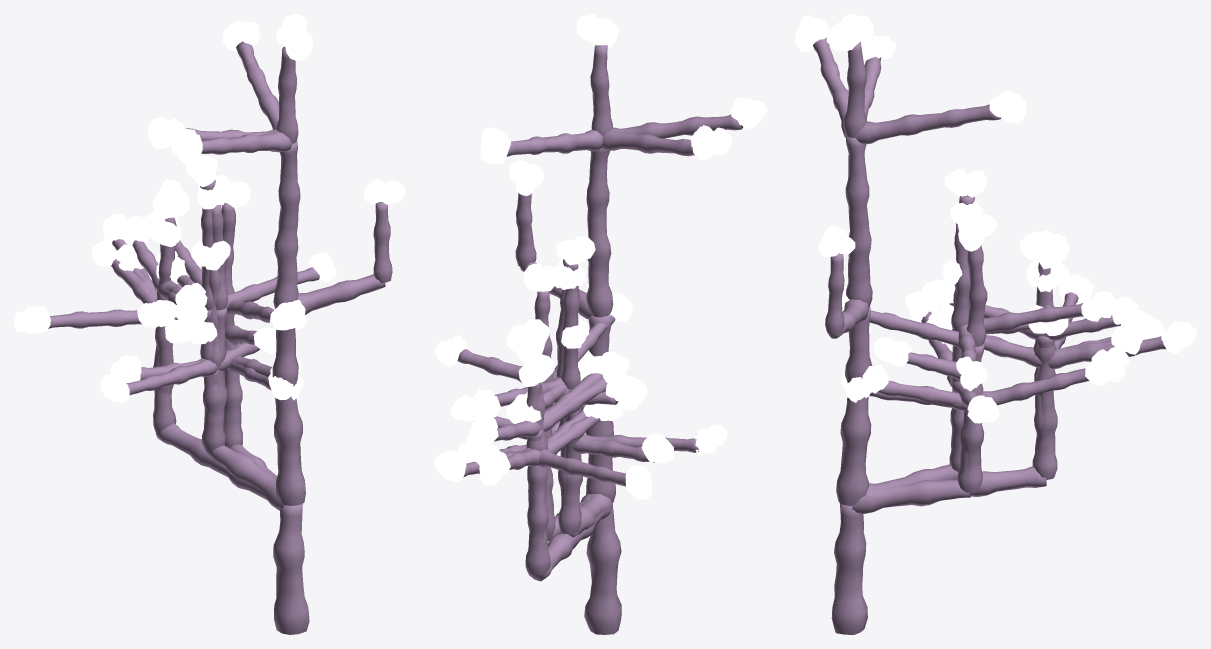
3 views of the same model, side by side, from view 1: azimuth 30°, elevation 25°; view 2: azimuth 150°, elevation 25°; view 3: azimuth 270°, elevation 25° (orthographic).
Visible parts, largest first — view 1: Chorus; view 2: Chorus; view 3: Chorus.
Boxes of the visible parts, left/top/right/bottom form: Chorus: left=14, top=14, right=405, bottom=634; Chorus: left=434, top=14, right=766, bottom=634; Chorus: left=795, top=14, right=1196, bottom=634.
Bounding box in the file's own units: 0.6608 × 1.44 × 0.8516.
